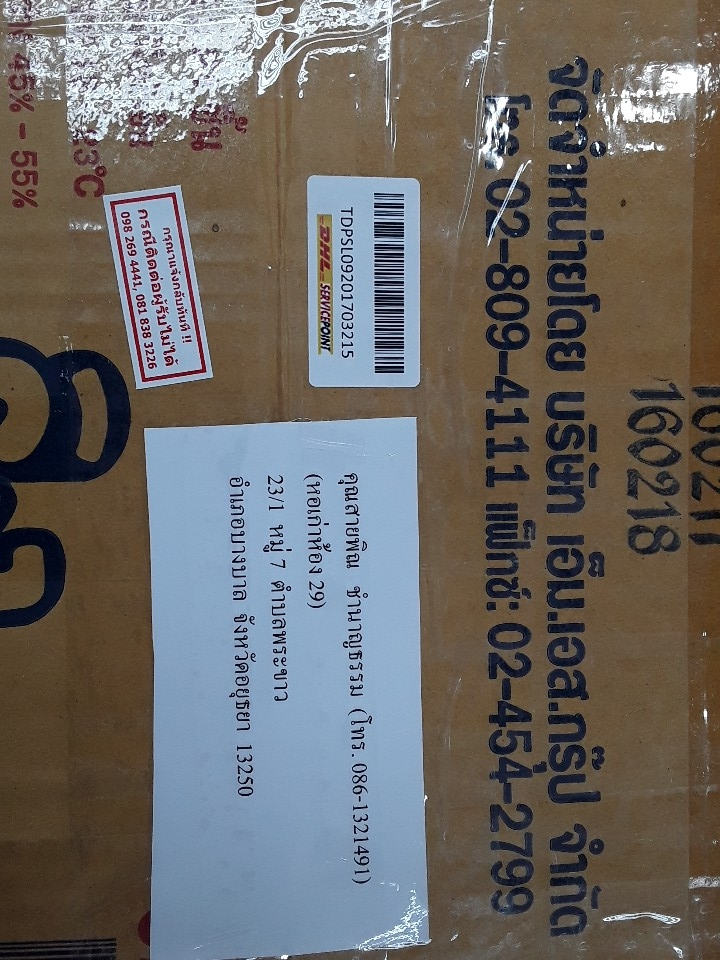ba: (296, 165, 434, 406)
txt: (224, 461, 380, 892)
